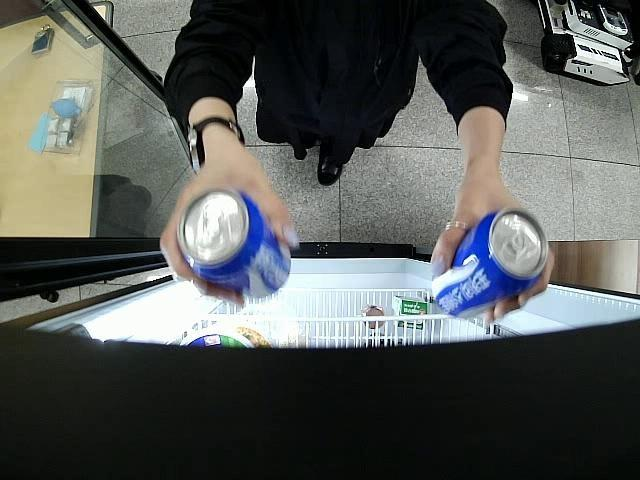13_pocariSweat: (431, 208, 548, 317), (180, 186, 290, 300)
